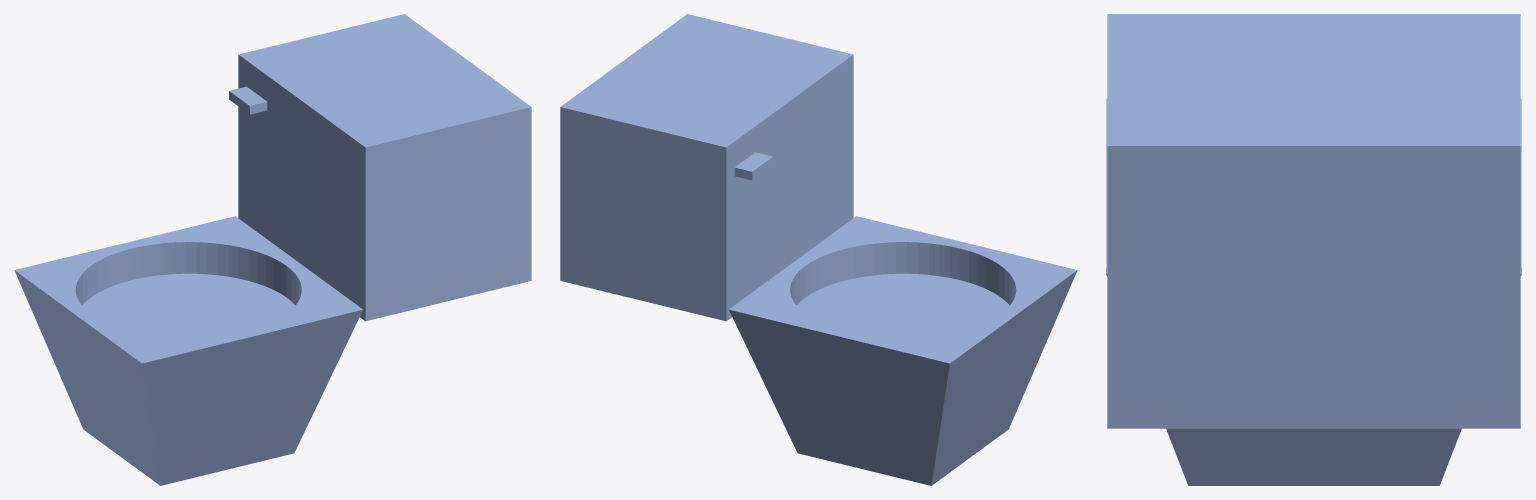
The model's file is Escuzado.fbx.
3 renders of one model, left to right at view 1: azimuth 30°, elevation 25°; view 2: azimuth 150°, elevation 25°; view 3: azimuth 270°, elevation 25°, orthographic. The views are drawn at different scales.
Parts seen in each view (by area): view 1: Cube.008; view 2: Cube.008; view 3: Cube.008.
Boxes of the visible parts, bbox=[...] form: Cube.008: bbox=[14, 14, 531, 485]; Cube.008: bbox=[560, 14, 1077, 485]; Cube.008: bbox=[1106, 14, 1521, 485].
Size of the model in its own units: 1269 by 972 by 720.
